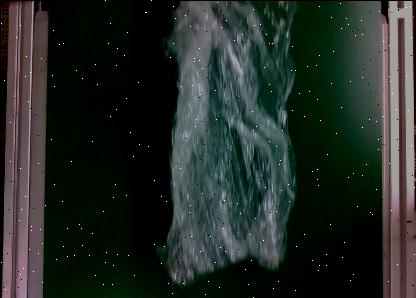Others: (155, 0, 304, 291)
